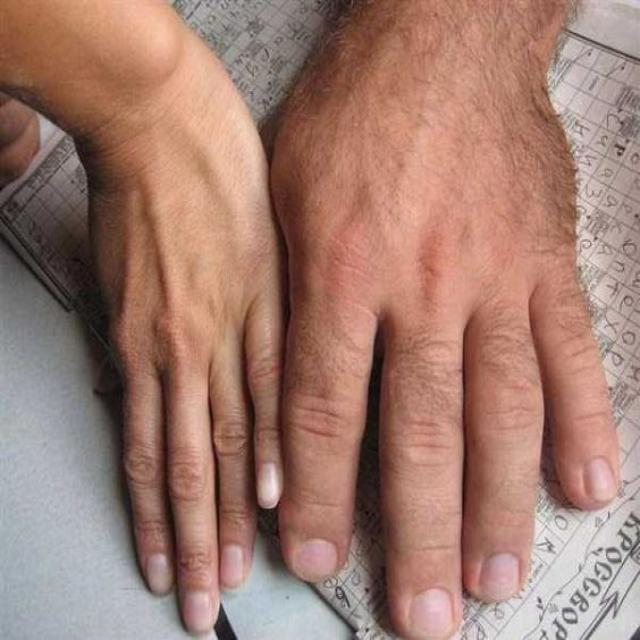Fingernail: (410, 589, 453, 639), (480, 553, 519, 601), (298, 540, 337, 580), (183, 590, 213, 634), (586, 460, 615, 502), (146, 554, 172, 594), (258, 464, 280, 507), (222, 546, 244, 589)
